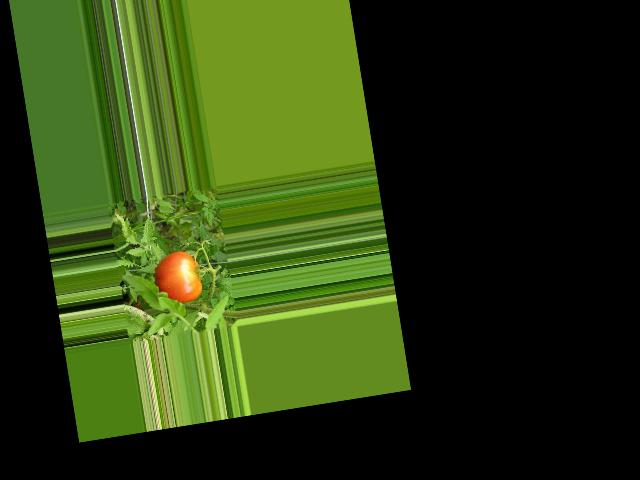tomato: (151, 248, 204, 306)
